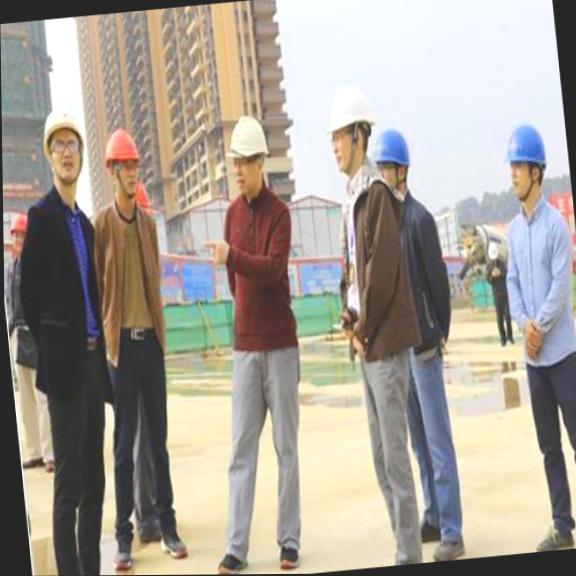no_safety_vest: (20, 190, 105, 373), (334, 171, 410, 359), (222, 184, 296, 340), (504, 201, 572, 369), (96, 195, 164, 332)
